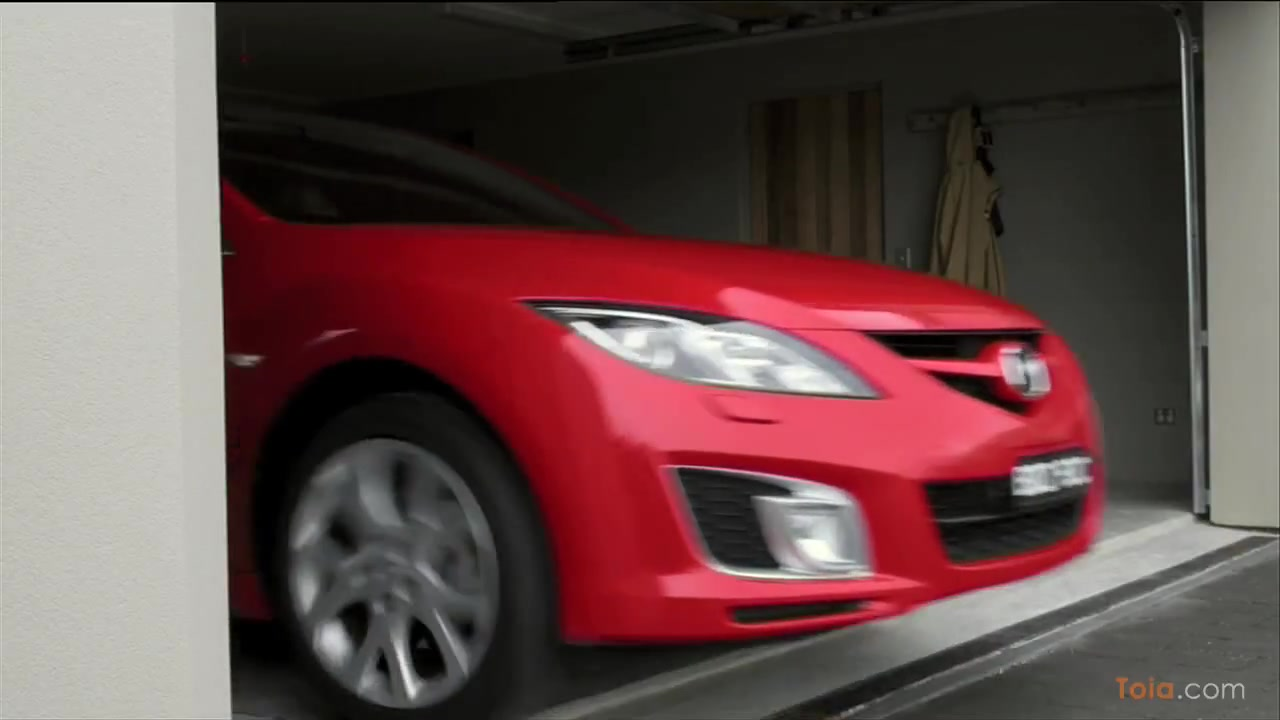car: (218, 85, 1107, 720)
